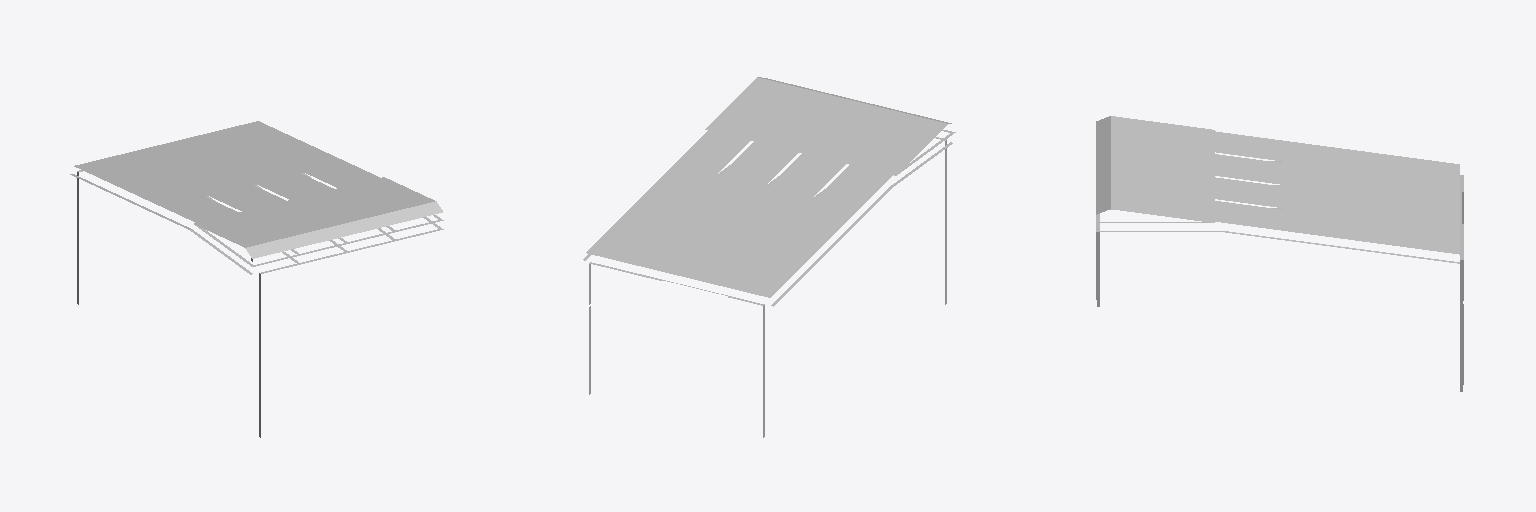
The model's file is BuildingCeiling.obj.
The picture shows the model from 3 angles: view 1: azimuth 30°, elevation 25°; view 2: azimuth 150°, elevation 25°; view 3: azimuth 270°, elevation 25°; orthographic projection.
Parts seen in each view (by area): view 1: bedroom#2.019_Mesh.017; view 2: bedroom#2.019_Mesh.017; view 3: bedroom#2.019_Mesh.017.
Boxes of the visible parts, x1=… form: bedroom#2.019_Mesh.017: x1=70, y1=121, x2=443, y2=437; bedroom#2.019_Mesh.017: x1=583, y1=77, x2=955, y2=437; bedroom#2.019_Mesh.017: x1=1096, y1=116, x2=1463, y2=391.
Size of the model in its own units: 12.94 by 12.07 by 21.56.